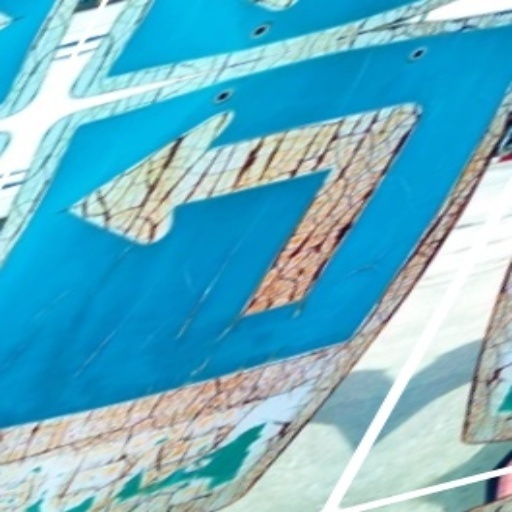Turn left: (71, 111, 447, 351)
